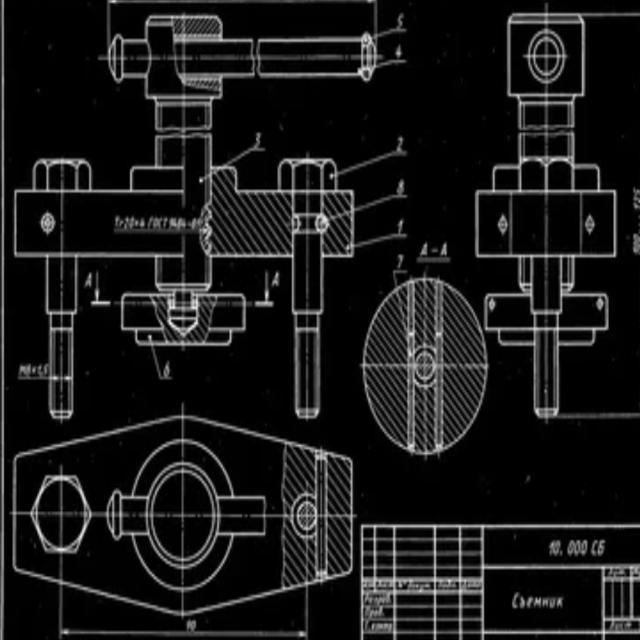marking_line: (57, 618, 310, 640), (58, 597, 112, 640), (337, 149, 406, 180), (268, 596, 311, 639), (355, 193, 407, 220), (353, 232, 407, 254), (90, 271, 113, 308), (253, 273, 272, 311), (152, 346, 172, 379), (231, 146, 264, 165), (416, 257, 454, 273), (378, 28, 408, 41), (379, 58, 406, 72)
numeric: (396, 216, 406, 233), (395, 44, 404, 60), (396, 11, 404, 29), (580, 538, 587, 558), (551, 540, 560, 555), (397, 179, 406, 194), (253, 134, 262, 148), (397, 134, 404, 151), (574, 540, 580, 558), (273, 271, 279, 289), (567, 540, 574, 555), (398, 252, 403, 269), (548, 541, 554, 554), (43, 364, 49, 377), (189, 619, 196, 630), (38, 364, 43, 375), (186, 619, 191, 630)
